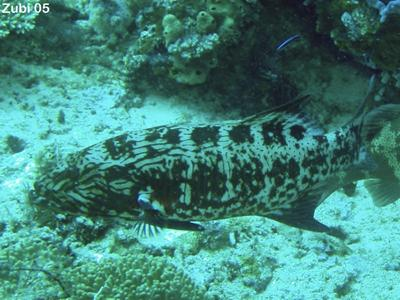Serranidae -Groupers-: (26, 70, 383, 235)
